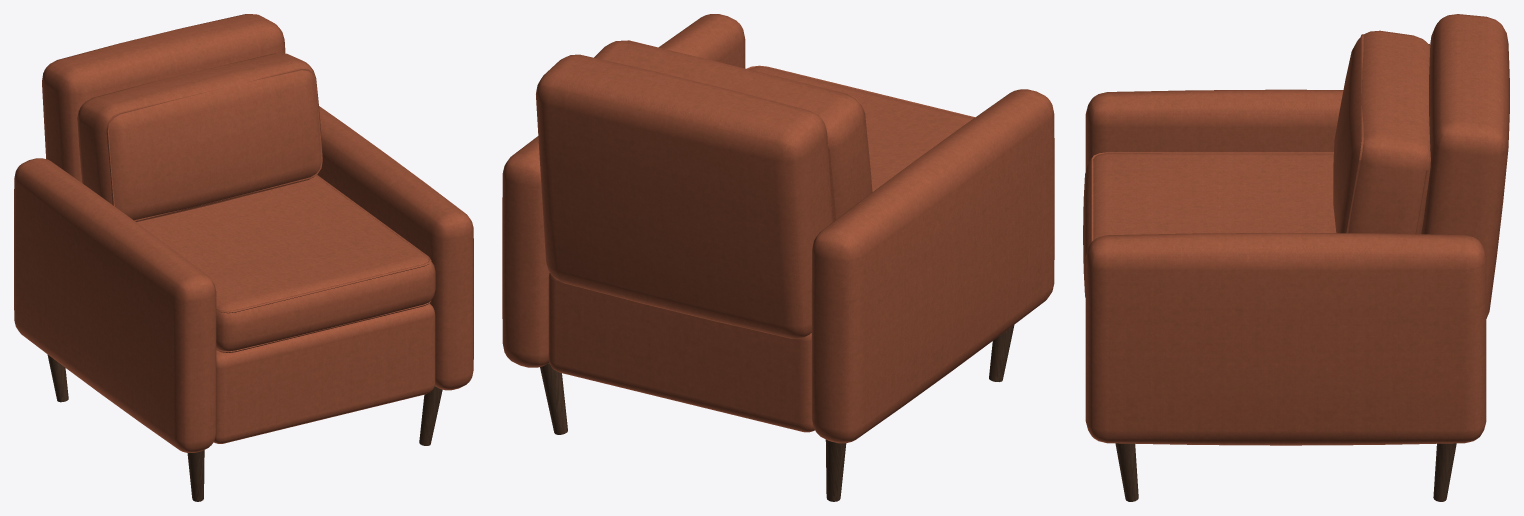
Rendered from ap_armchair.glb.
The picture shows the model from 3 angles, left to right: view 1: azimuth 30°, elevation 25°; view 2: azimuth 150°, elevation 25°; view 3: azimuth 270°, elevation 25°; orthographic projection. The views are drawn at different scales.
Parts seen in each view (by area): view 1: ap_armchair; view 2: ap_armchair; view 3: ap_armchair.
Part boxes in pixels (box(x1,y1,x2,y2)): ap_armchair: box(14, 14, 473, 501); ap_armchair: box(502, 14, 1054, 501); ap_armchair: box(1083, 14, 1509, 501).
Bounding box in the file's own units: 0.836 × 0.8569 × 0.8945.
Materials: 2 (2 with a texture image).
